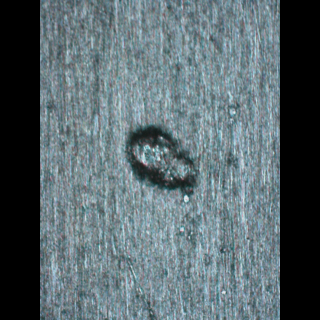d: (117, 126, 205, 202)
